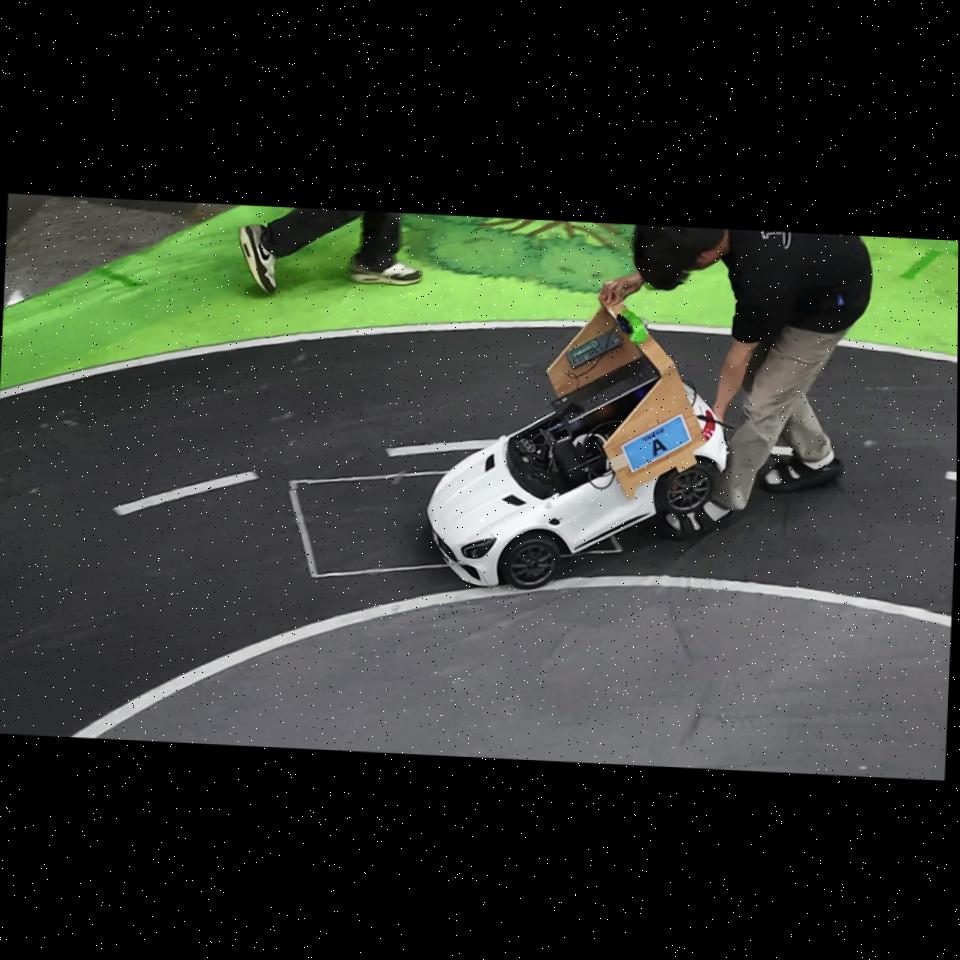broken_line: (114, 471, 259, 515), (386, 440, 494, 457), (772, 446, 794, 455), (946, 472, 957, 481)
